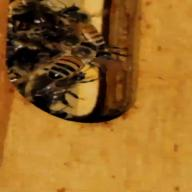Bee: (49, 9, 127, 56), (51, 46, 98, 82)
